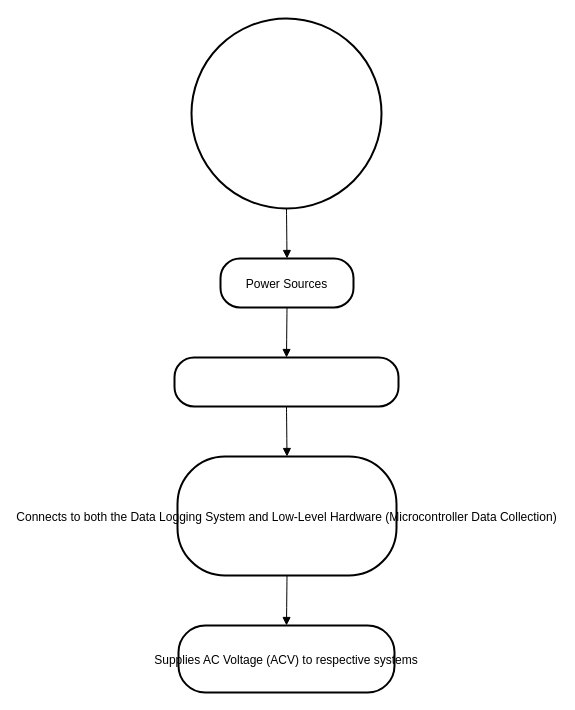
The diagram is 575 pixels wide and 710 high, and some of its shapes have lost their labels. The centre of each missing label's shape, as x and y in pixels:
"120V 2 Phase Power Source" goes at pixel 286 381.
"Title: High-Level System Design Overview" goes at pixel 286 113.
